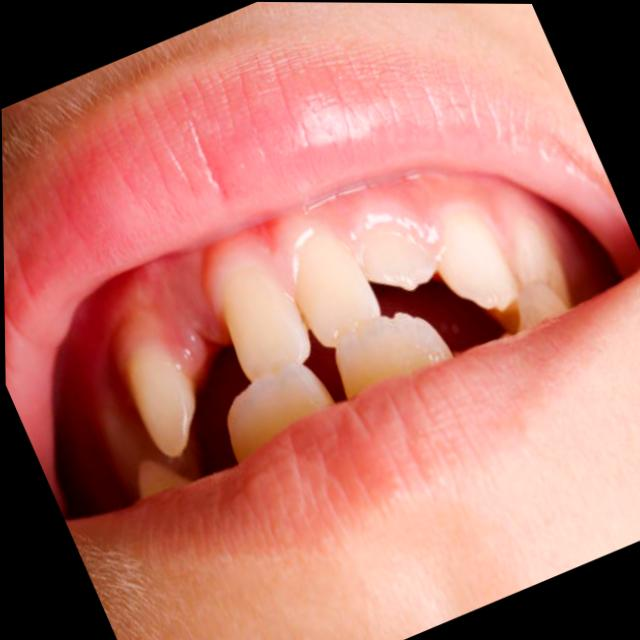hypodontia: (149, 283, 253, 436), (412, 299, 522, 357), (158, 414, 240, 485)
